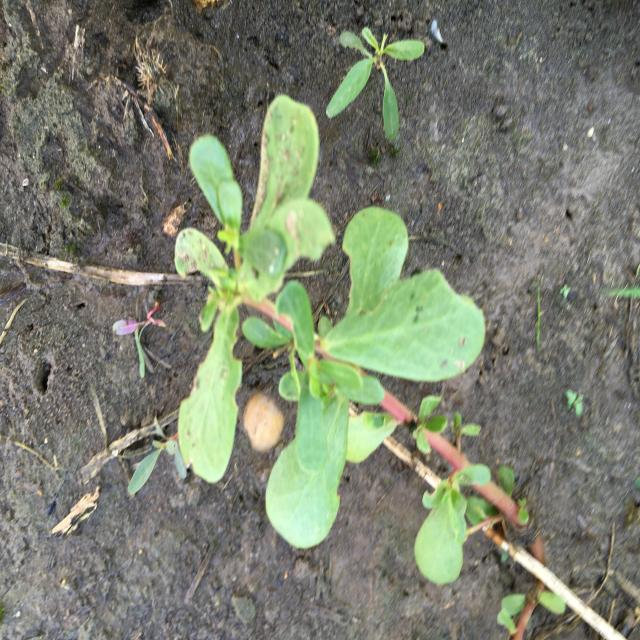Purslane: (172, 92, 568, 638)
Waterhemp: (323, 26, 427, 144)
